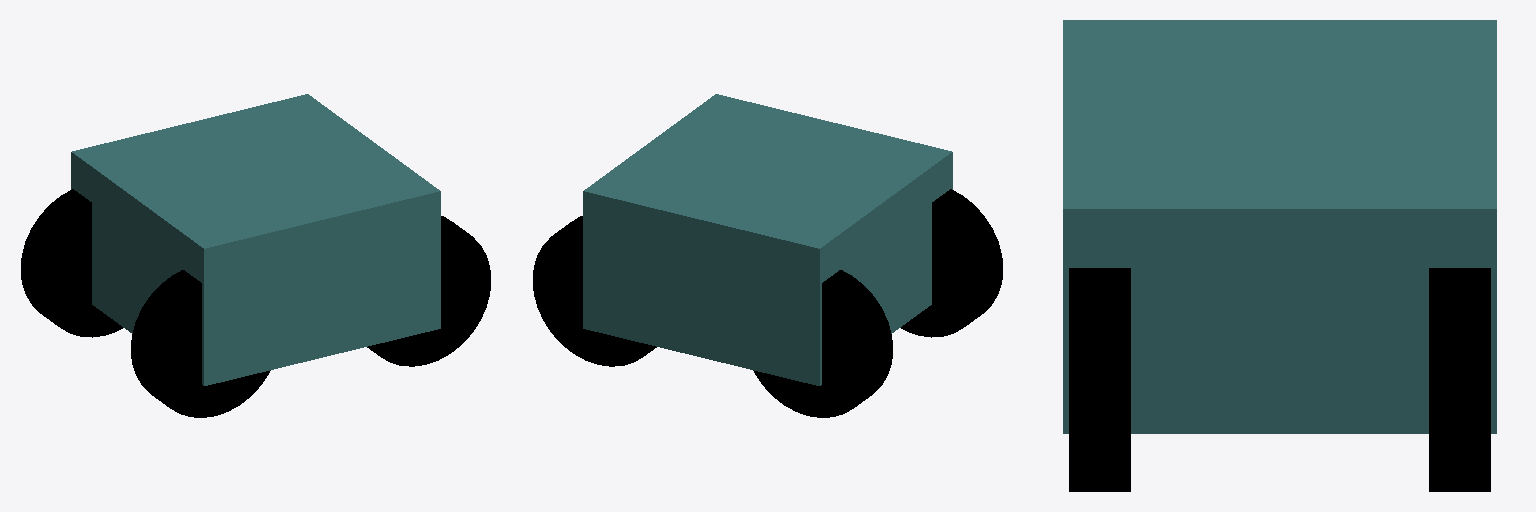
The robot description file, URDF, robot "my_robot":
<robot name="my_robot">
    <link name="base_link">
        <inertial>
            <mass value="10.0"/>
            <origin xyz="0 0 0"/>
            <inertia ixx="0.1" ixy="0.0" ixz="0.0" iyy="0.1" iyz="0.0" izz="0.1"/>
        </inertial>
        <visual>
            <geometry>
                <box size="0.36 0.35 0.2"/>
            </geometry>
            <material name="grey">
                <color rgba="0.3 0.5 0.5 1.0"/>
            </material>
        </visual>
        <collision>
            <geometry>
                <box size="0.36 0.35 0.2"/>
            </geometry>
        </collision>
    </link>
    <link name="front_left_wheel">
        <visual>
            <geometry>
                <cylinder length="0.05" radius="0.1"/>
            </geometry>
            <material name="black">
                <color rgba="0 0 0 1"/>
            </material>
        </visual>
        <collision>
            <geometry>
                <cylinder length="0.05" radius="0.1"/>
            </geometry>
        </collision>
        <inertial>
            <mass value="0.1"/>
            <origin xyz="0 0 0"/>
            <inertia ixx="0.01" ixy="0.0" ixz="0.0" iyy="0.01" iyz="0.0" izz="0.01"/>
        </inertial>
    </link>
    <link name="front_right_wheel">
        <visual>
            <geometry>
                <cylinder length="0.05" radius="0.1"/>
            </geometry>
            <material name="black">
                <color rgba="0 0 0 1"/>
            </material>
        </visual>
        <collision>
            <geometry>
                <cylinder length="0.05" radius="0.1"/>
            </geometry>
        </collision>
        <inertial>
            <mass value="0.1"/>
            <origin xyz="0 0 0"/>
            <inertia ixx="0.01" ixy="0.0" ixz="0.0" iyy="0.01" iyz="0.0" izz="0.01"/>
        </inertial>
    </link>
    <link name="rear_left_wheel">
        <visual>
            <geometry>
                <cylinder length="0.05" radius="0.1"/>
            </geometry>
            <material name="black">
                <color rgba="0 0 0 1"/>
            </material>
        </visual>
        <collision>
            <geometry>
                <cylinder length="0.05" radius="0.1"/>
            </geometry>
        </collision>
        <inertial>
            <mass value="0.1"/>
            <origin xyz="0 0 0"/>
            <inertia ixx="0.01" ixy="0.0" ixz="0.0" iyy="0.01" iyz="0.0" izz="0.01"/>
        </inertial>
    </link>
    <link name="rear_right_wheel">
        <visual>
            <geometry>
                <cylinder length="0.05" radius="0.1"/>
            </geometry>
            <material name="black">
                <color rgba="0 0 0 1"/>
            </material>
        </visual>
        <collision>
            <geometry>
                <cylinder length="0.05" radius="0.1"/>
            </geometry>
        </collision>
        <inertial>
            <mass value="0.1"/>
            <origin xyz="0 0 0"/>
            <inertia ixx="0.01" ixy="0.0" ixz="0.0" iyy="0.01" iyz="0.0" izz="0.01"/>
        </inertial>
    </link>
    <link name="lidar">
        <origin xyz="0 0 0.3"/>
        <sensor type="lidar">
            <update_rate>30</update_rate>
            <range>
                <min>0.1</min>
                <max>10.0</max>
            </range>
            <horizontal>
                <samples>360</samples>
                <resolution>1</resolution>
                <min_angle>1</min_angle>
                <max_angle>360</max_angle>
            </horizontal>
        </sensor>
    </link>
    <joint name="base_to_lidar" type="fixed">
        <parent link="base_link"/>
        <child link="lidar"/>
        <origin xyz="0 0 0.3" rpy="0 0 3.14159"/>
    </joint>
    <joint name="front_left_wheel_joint" type="continuous">
        <parent link="base_link"/>
        <child link="front_left_wheel"/>
        <origin xyz="-0.16 0.145 -0.05" rpy="1.5708 0 0"/>
        <axis xyz="0 0 1"/>
        <dynamics damping="0.04" friction="0.9"/>
    </joint>
    <joint name="front_right_wheel_joint" type="continuous">
        <parent link="base_link"/>
        <child link="front_right_wheel"/>
        <origin xyz="-0.16 -0.145 -0.05" rpy="1.5708 0 0"/>
        <axis xyz="0 0 1"/>
        <dynamics damping="0.04" friction="0.9"/>
    </joint>
    <joint name="rear_left_wheel_joint" type="continuous">
        <parent link="base_link"/>
        <child link="rear_left_wheel"/>
        <origin xyz="0.16 0.145 -0.05" rpy="1.5708 0 0"/>
        <axis xyz="0 0 1"/>
        <dynamics damping="0.04" friction="0.9"/>
    </joint>
    <joint name="rear_right_wheel_joint" type="continuous">
        <parent link="base_link"/>
        <child link="rear_right_wheel"/>
        <origin xyz="0.16 -0.145 -0.05" rpy="1.5708 0 0"/>
        <axis xyz="0 0 1"/>
        <dynamics damping="0.04" friction="0.9"/>
    </joint>
</robot>

--- Render facts (derived) ---
Views: 3 orthographic renders of the robot side by side, from view 1: azimuth 30°, elevation 25°; view 2: azimuth 150°, elevation 25°; view 3: azimuth 270°, elevation 25°.
Robot: my_robot — 6 links, 5 joints (4 continuous, 1 fixed); root link base_link; default pose: every joint at zero.
Visible links, largest first — view 1: base_link, front_right_wheel, front_left_wheel, rear_right_wheel; view 2: base_link, front_left_wheel, front_right_wheel, rear_left_wheel; view 3: base_link, rear_left_wheel, rear_right_wheel.
Link boxes in pixels (x1,y1,x2,y2): base_link: [71, 94, 440, 385]; front_right_wheel: [131, 270, 270, 417]; front_left_wheel: [21, 189, 122, 337]; rear_right_wheel: [367, 216, 490, 366]; base_link: [583, 94, 952, 385]; front_left_wheel: [753, 270, 892, 417]; front_right_wheel: [901, 189, 1002, 337]; rear_left_wheel: [533, 216, 656, 366]; base_link: [1063, 20, 1496, 433]; rear_left_wheel: [1429, 268, 1490, 491]; rear_right_wheel: [1069, 268, 1130, 491].
Bounding box of the posed robot: 0.52 × 0.35 × 0.25 m (x, y, z).
Geometry: primitives only (box / cylinder / sphere), no mesh files.